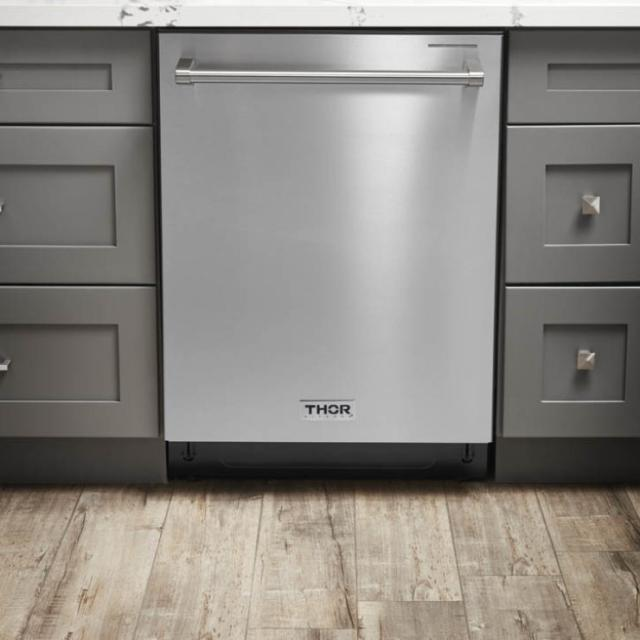dishwasher: (145, 18, 510, 488)
